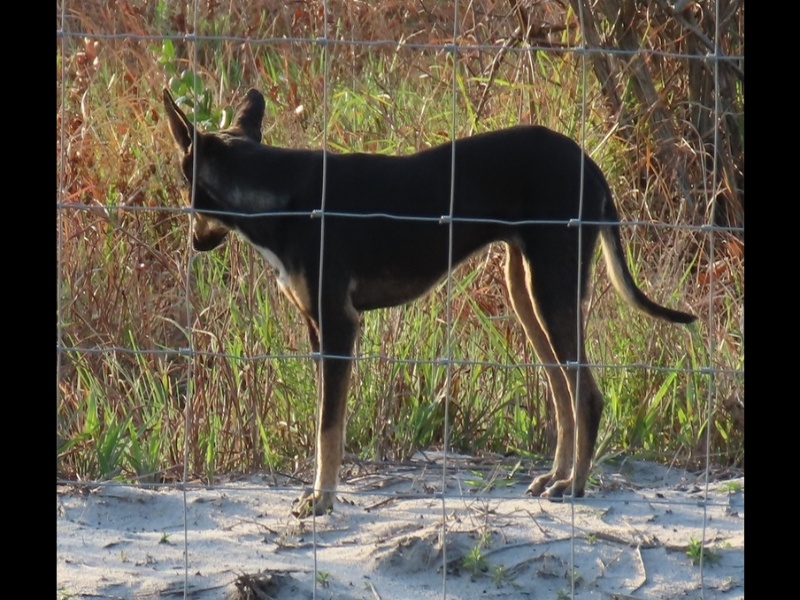dog: (154, 79, 699, 514)
